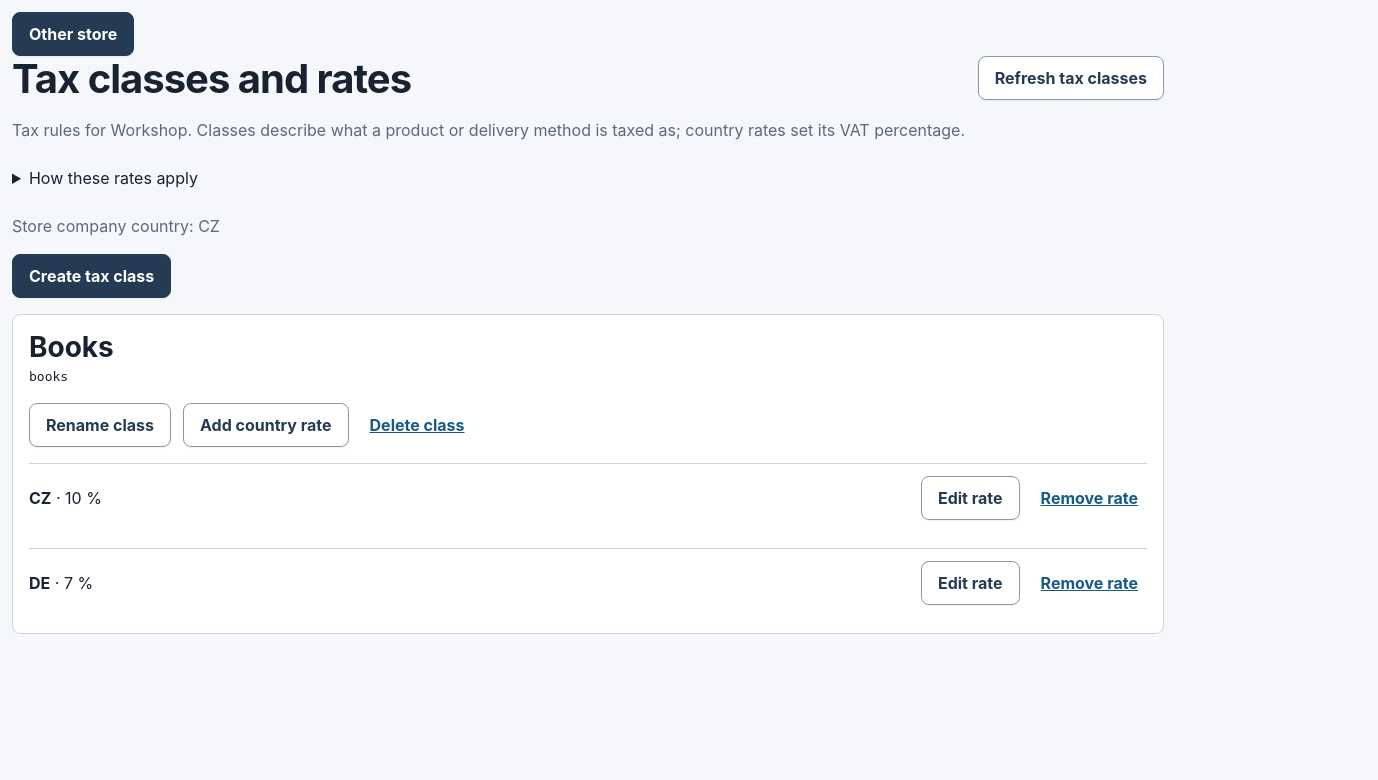
Test: renames only the label, keeps the code fixed and re-reads the saved rates
This screenshot has width=1378, height=780.
Expected: the heading "Books" is shown, 29,330 -> 114,364
Click the button with aria-label "Rename class books" at (100, 425), box 29,403 -> 171,447
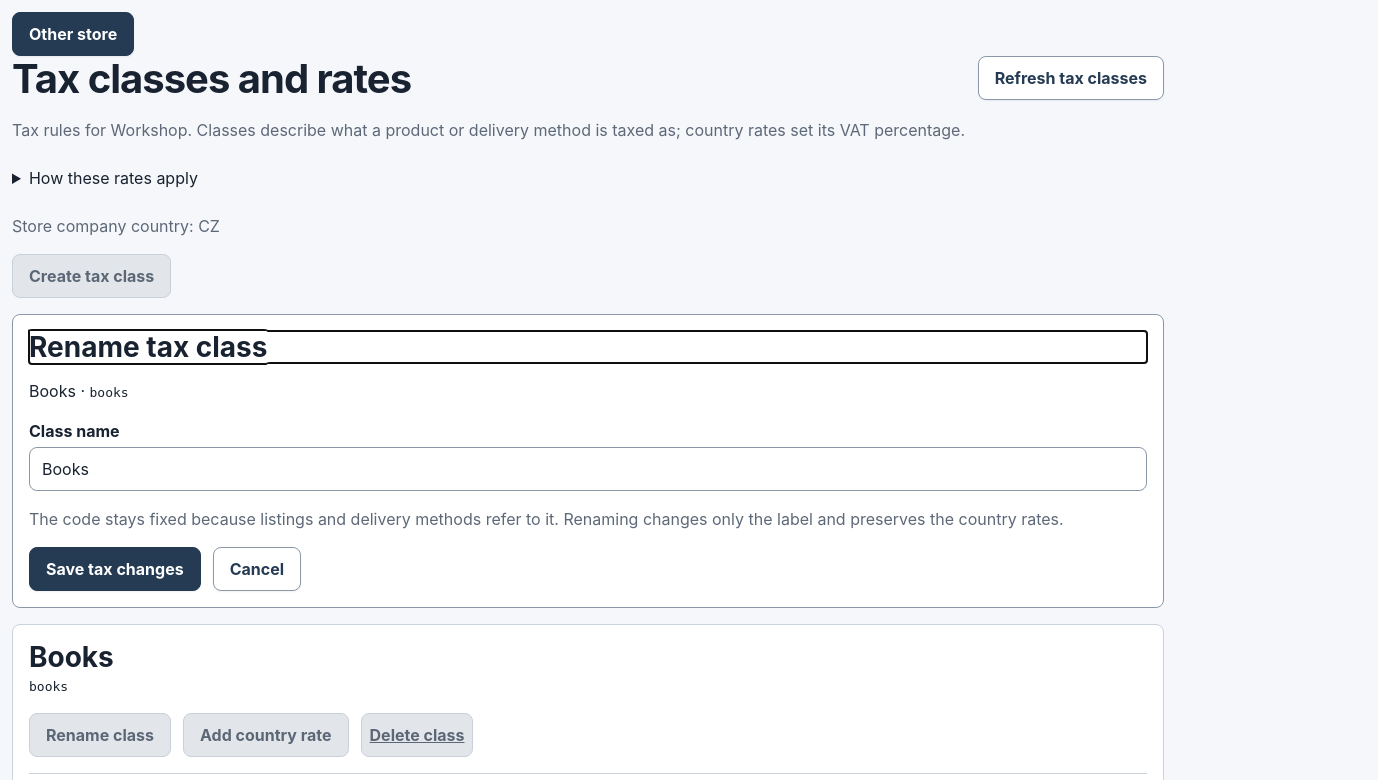
Replace the text in the field labelled "Class name" with "Printed books" at (588, 469), box 29,447 -> 1147,491
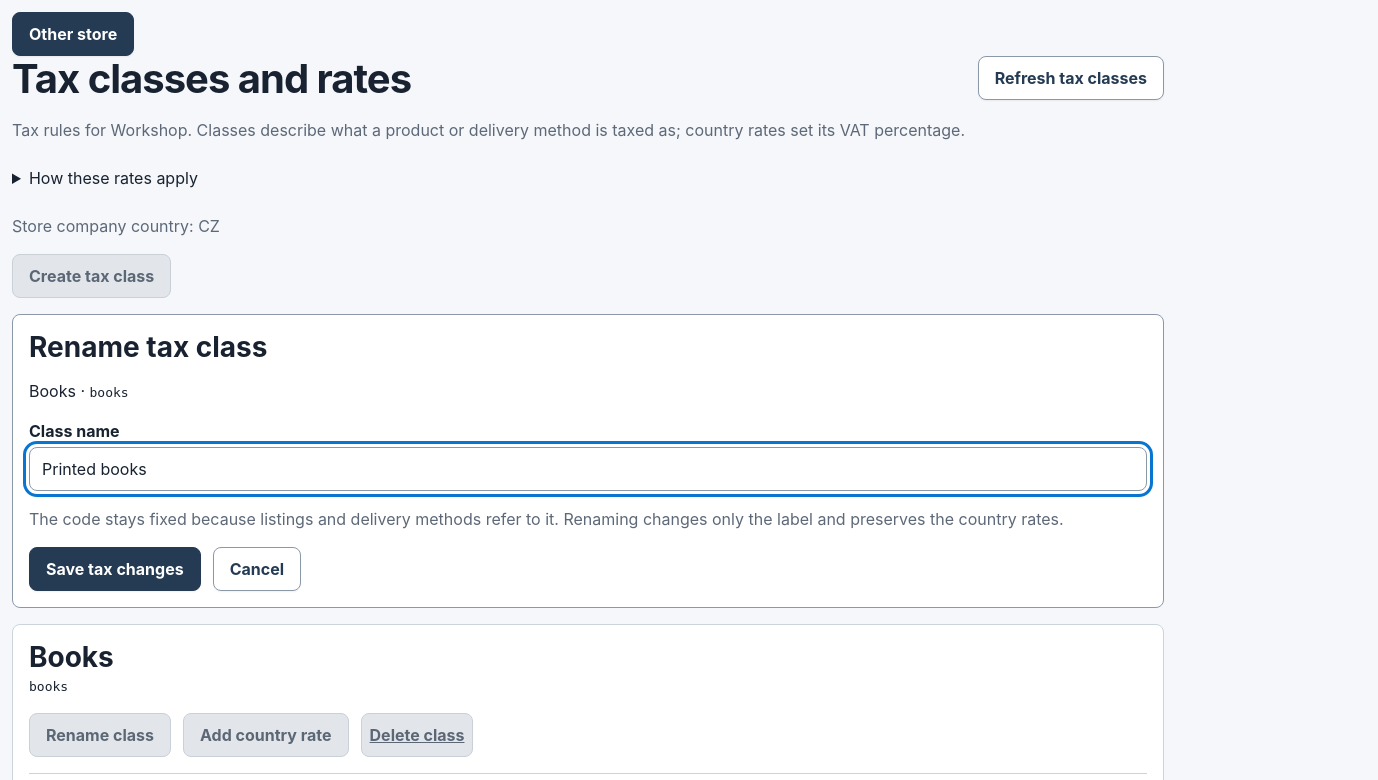
Click the button "Save tax changes" at (115, 569), box 29,547 -> 201,591
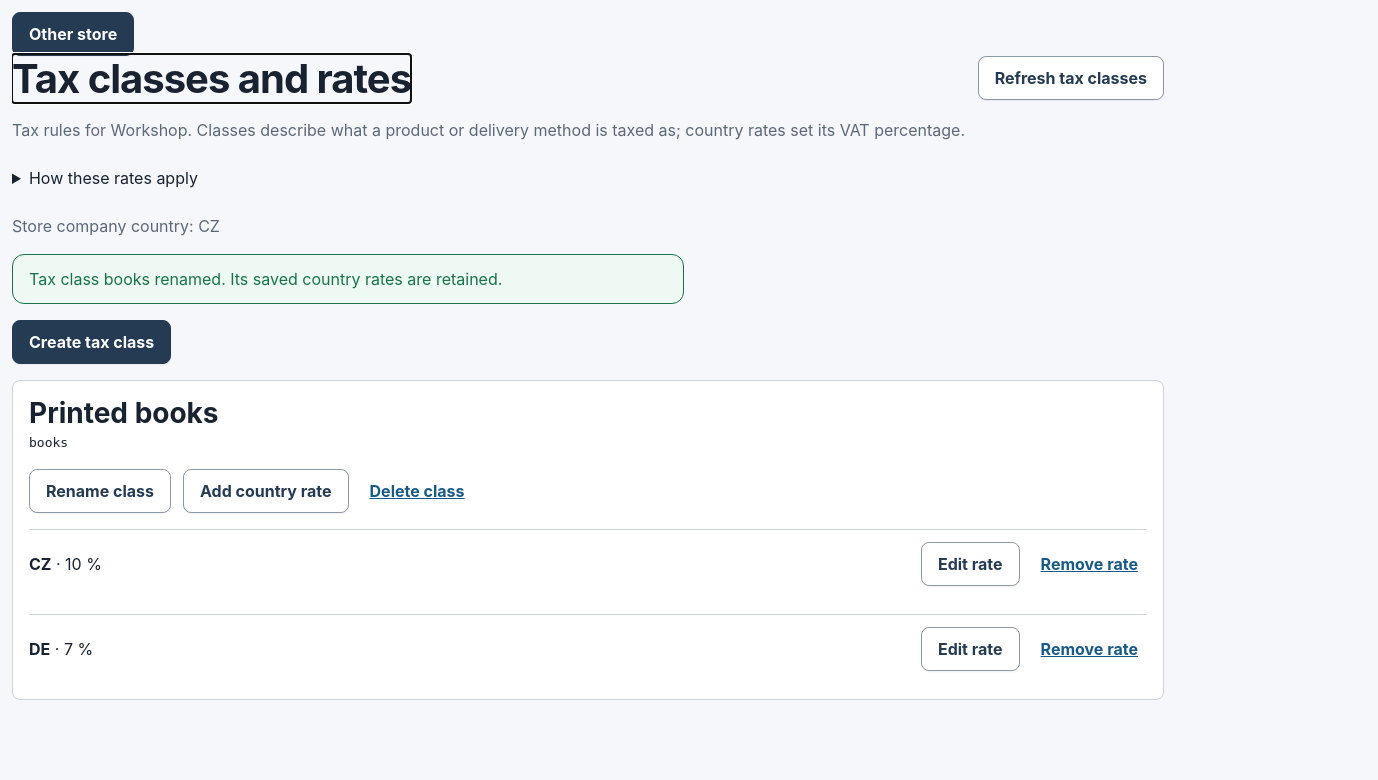
Expected: the text "CZ" is shown, 29,554 -> 52,574
Expected: the heading "Printed books" is shown, 29,396 -> 218,430
